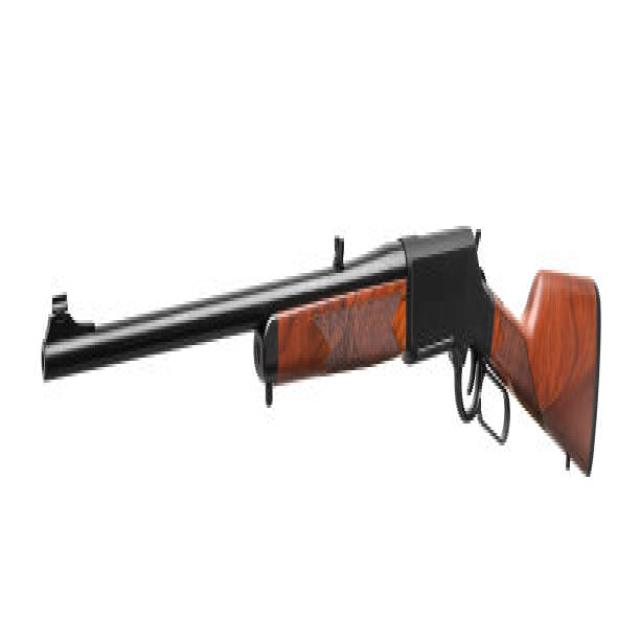rifle: (40, 205, 607, 490)
